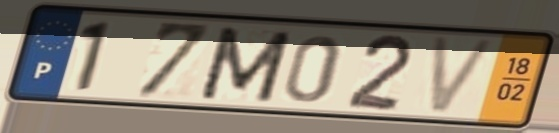0: (280, 33, 349, 104)
1: (74, 19, 119, 93)
2: (344, 32, 416, 115)
7: (138, 19, 217, 101)
M: (195, 23, 297, 105)
V: (426, 33, 502, 117)
